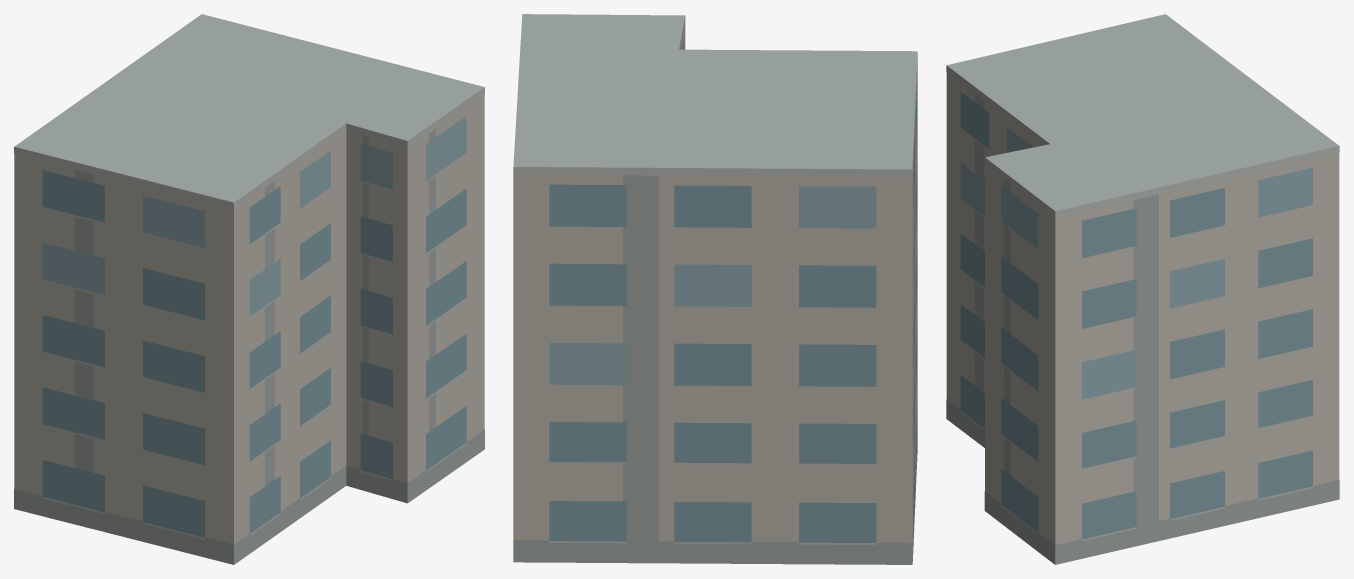
File: survey-upis-32627338.glb
3 views of the same model, side by side, from view 1: azimuth 30°, elevation 25°; view 2: azimuth 150°, elevation 25°; view 3: azimuth 270°, elevation 25° (orthographic). The views are drawn at different scales.
Parts seen in each view (by area): view 1: survey-upis-32627338.tmp; view 2: survey-upis-32627338.tmp; view 3: survey-upis-32627338.tmp.
Part boxes in pixels (x1,y1,x2,y2): survey-upis-32627338.tmp: (14, 14, 484, 564); survey-upis-32627338.tmp: (513, 14, 917, 564); survey-upis-32627338.tmp: (946, 14, 1339, 564).
Bounding box in the file's own units: 14.84 × 12.4 × 12.49.
